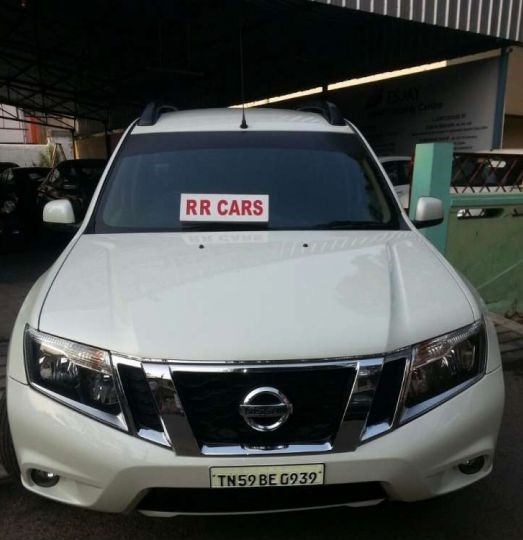TN59BE0939: (209, 463, 325, 487)
